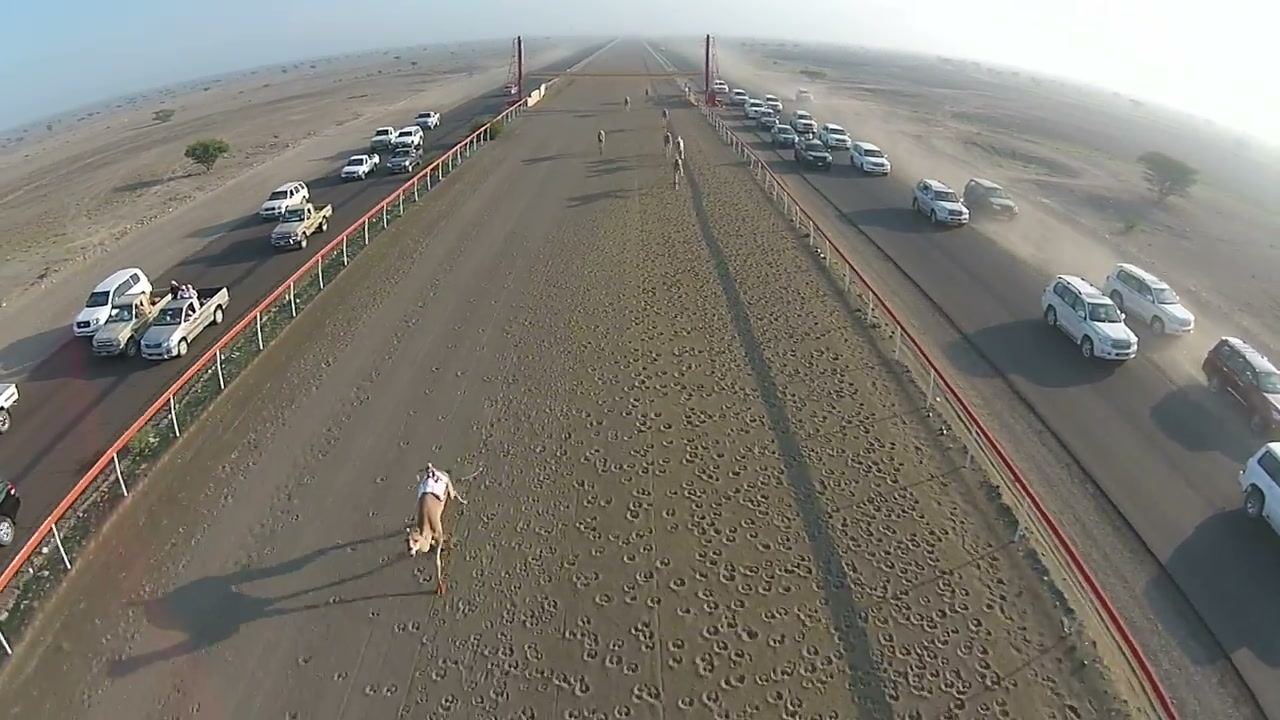animal_foot_print: (426, 220, 1059, 719)
